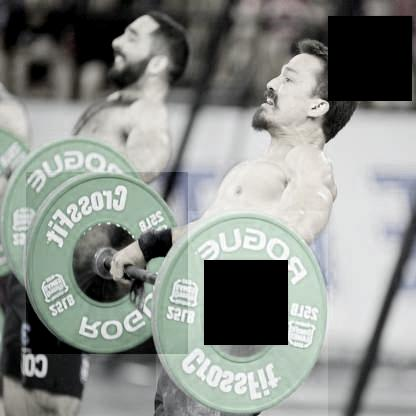barbell: (154, 211, 327, 416), (24, 173, 186, 354)
